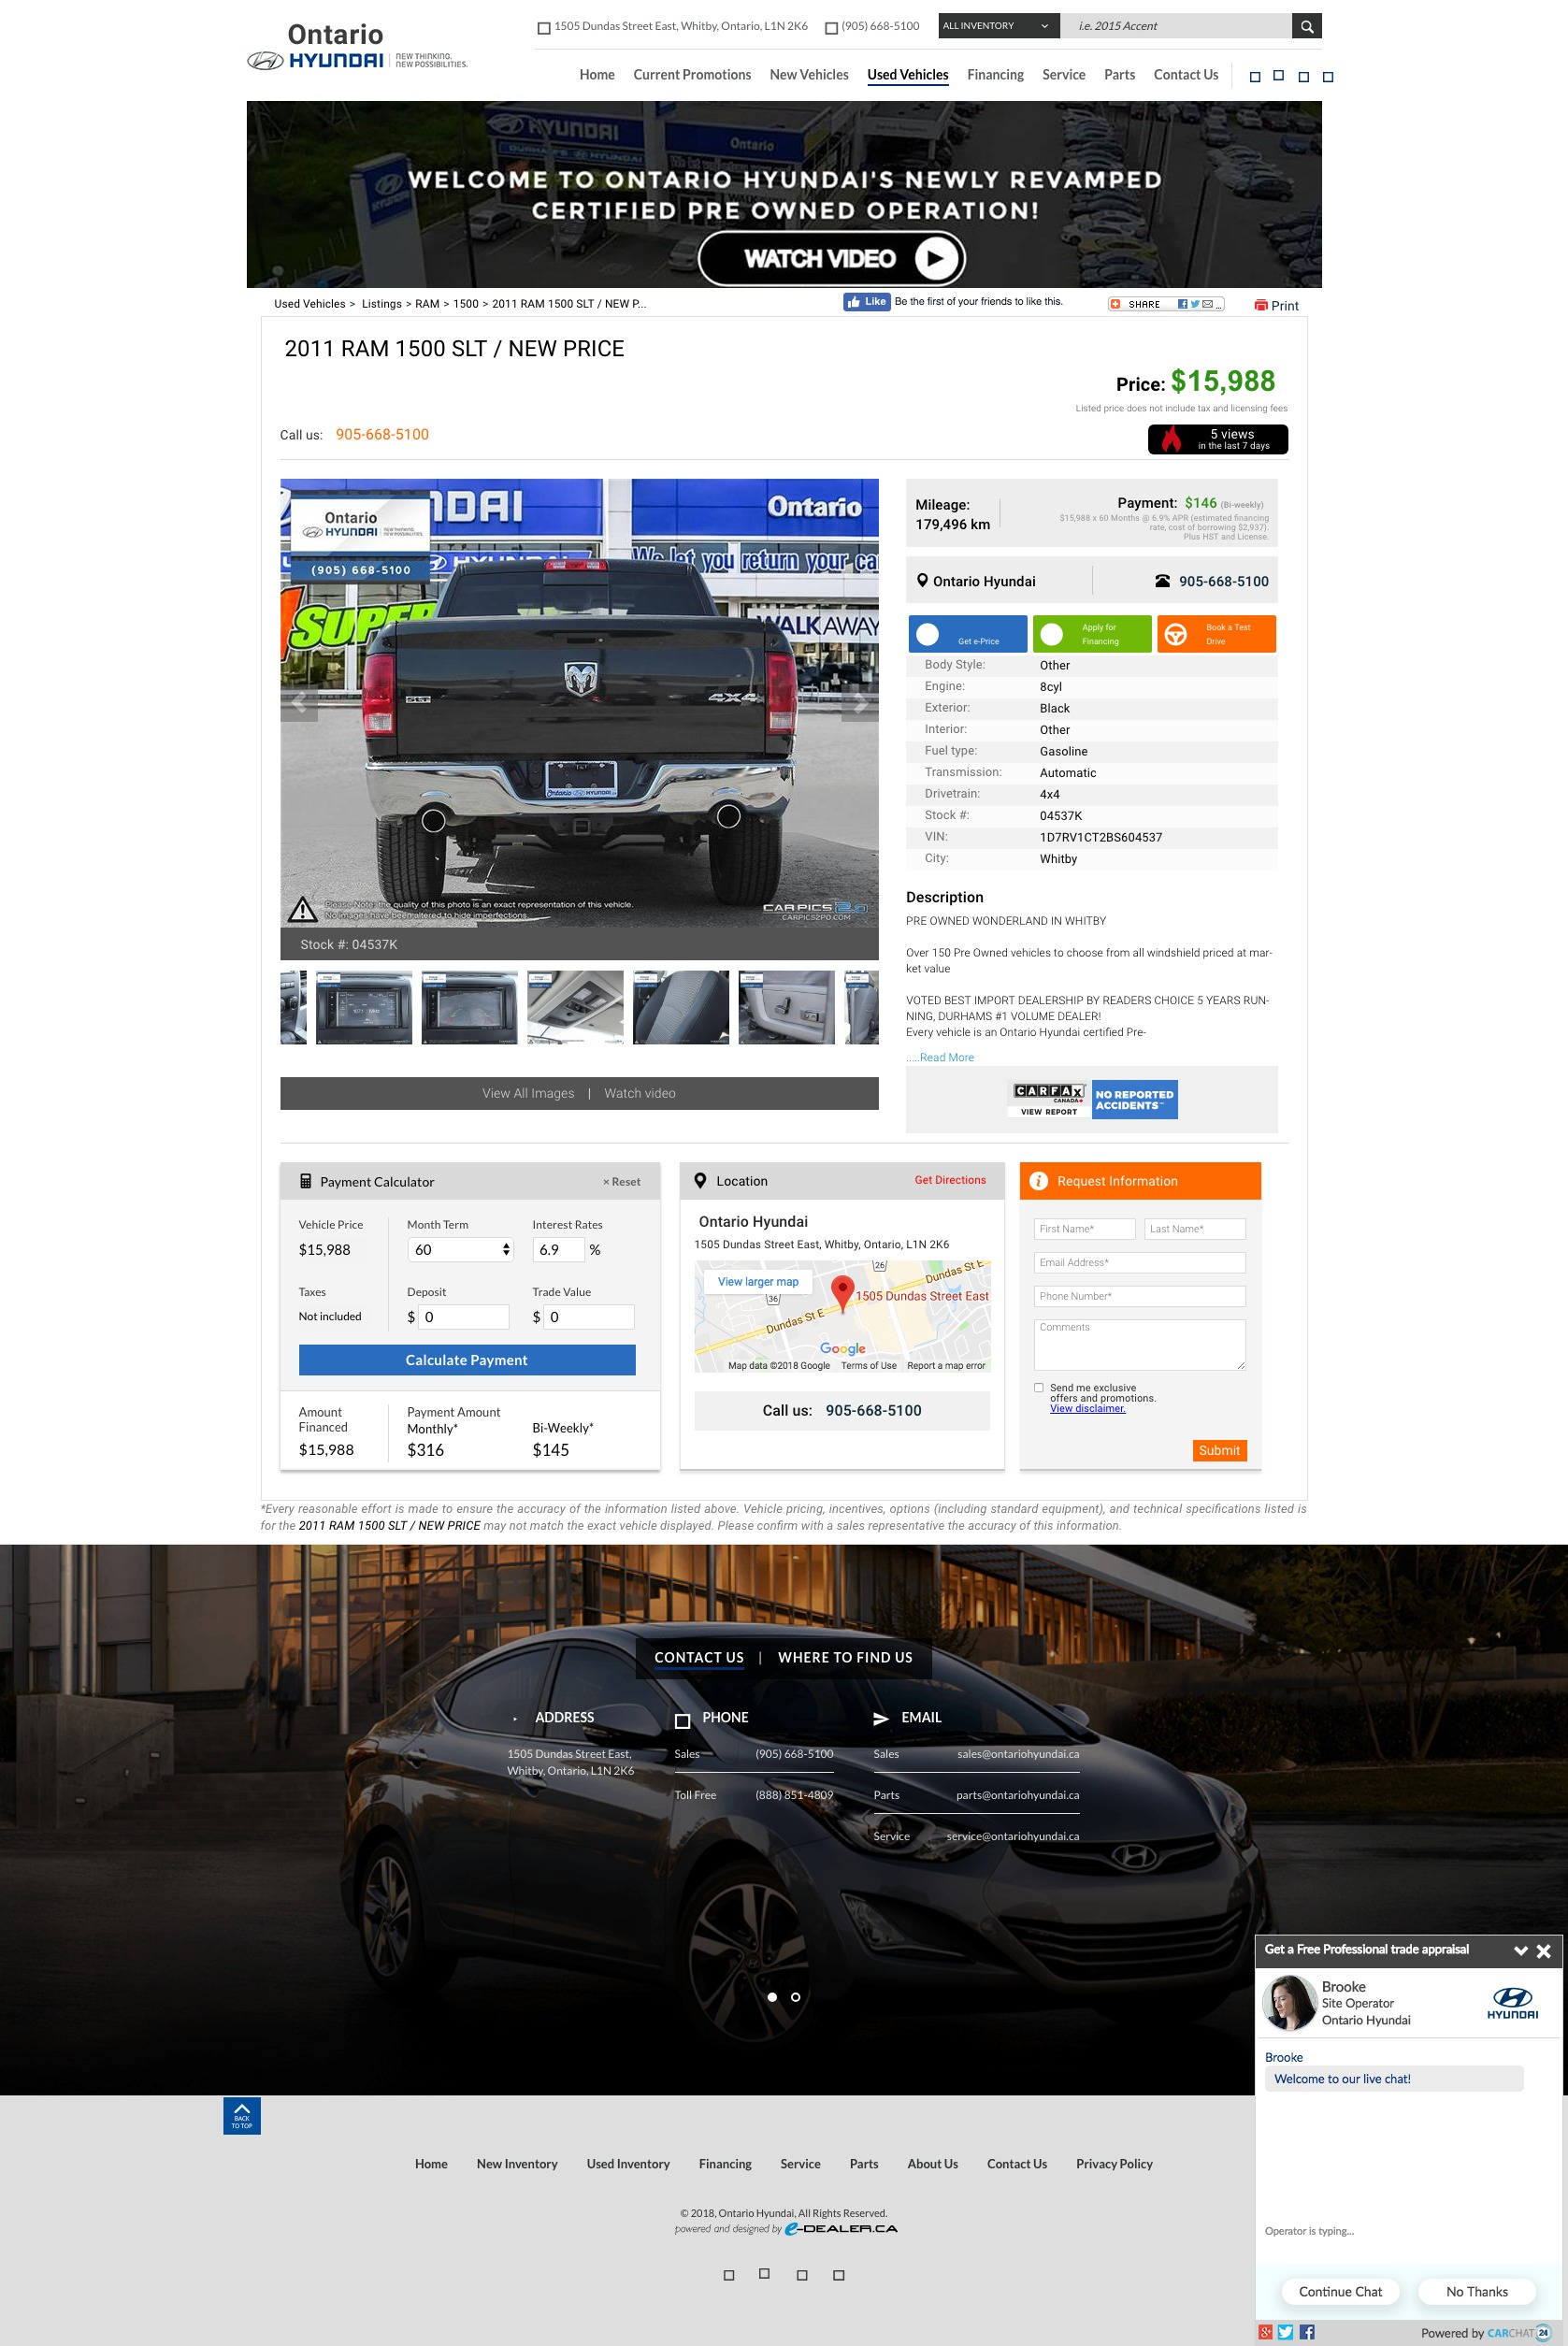car: (854, 693, 870, 717)
